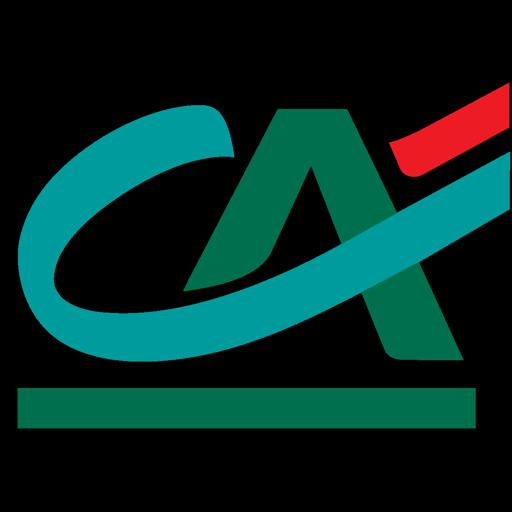Credit Agricole S-A: (0, 60, 512, 451)
